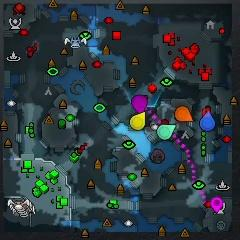Other: (210, 196, 222, 212)
p1: (199, 111, 215, 132)
p2: (157, 123, 177, 141)
p3: (131, 95, 148, 112)
p4: (130, 112, 146, 131)
p5: (174, 106, 193, 122)
